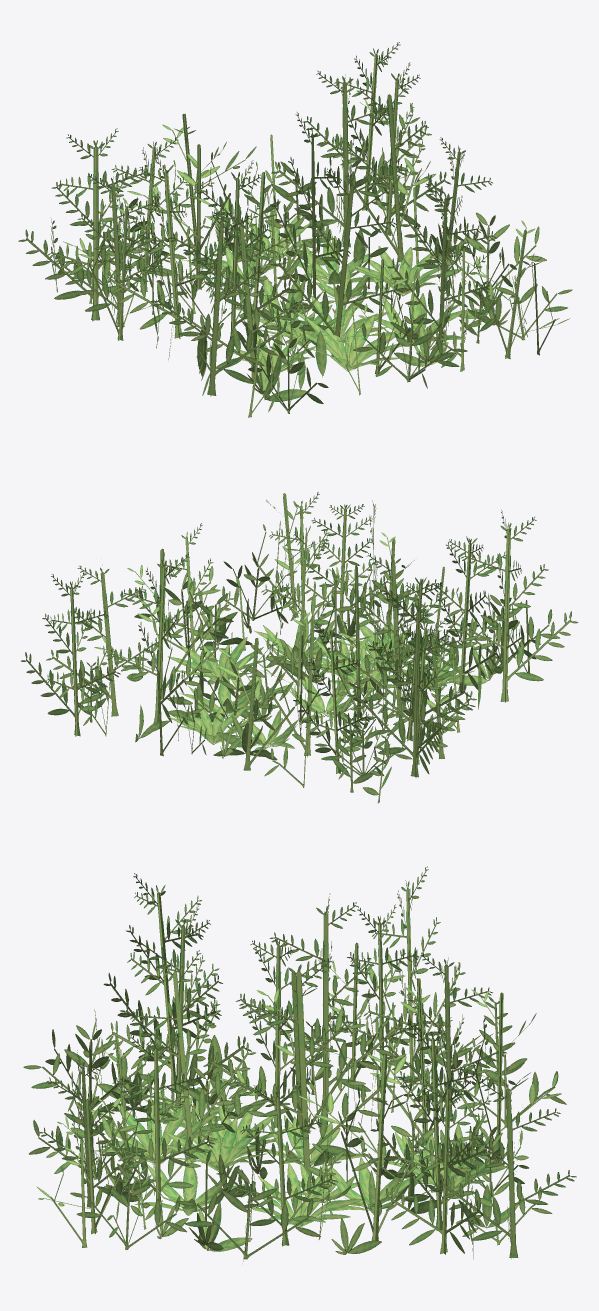
File: LeafSetA_24.fbx
The picture shows the model from 3 angles, top to bottom: view 1: azimuth 30°, elevation 25°; view 2: azimuth 150°, elevation 25°; view 3: azimuth 270°, elevation 25°; orthographic projection. The views are drawn at different scales.
Parts seen in each view (by area): view 1: LeafSetA_24; view 2: LeafSetA_24; view 3: LeafSetA_24.
Boxes of the visible parts, box(x1,y1,x2,y2) form: LeafSetA_24: box(18, 42, 572, 417); LeafSetA_24: box(21, 492, 578, 803); LeafSetA_24: box(23, 866, 576, 1261).
Bounding box in the file's own units: 2.69 × 1.24 × 2.64.
